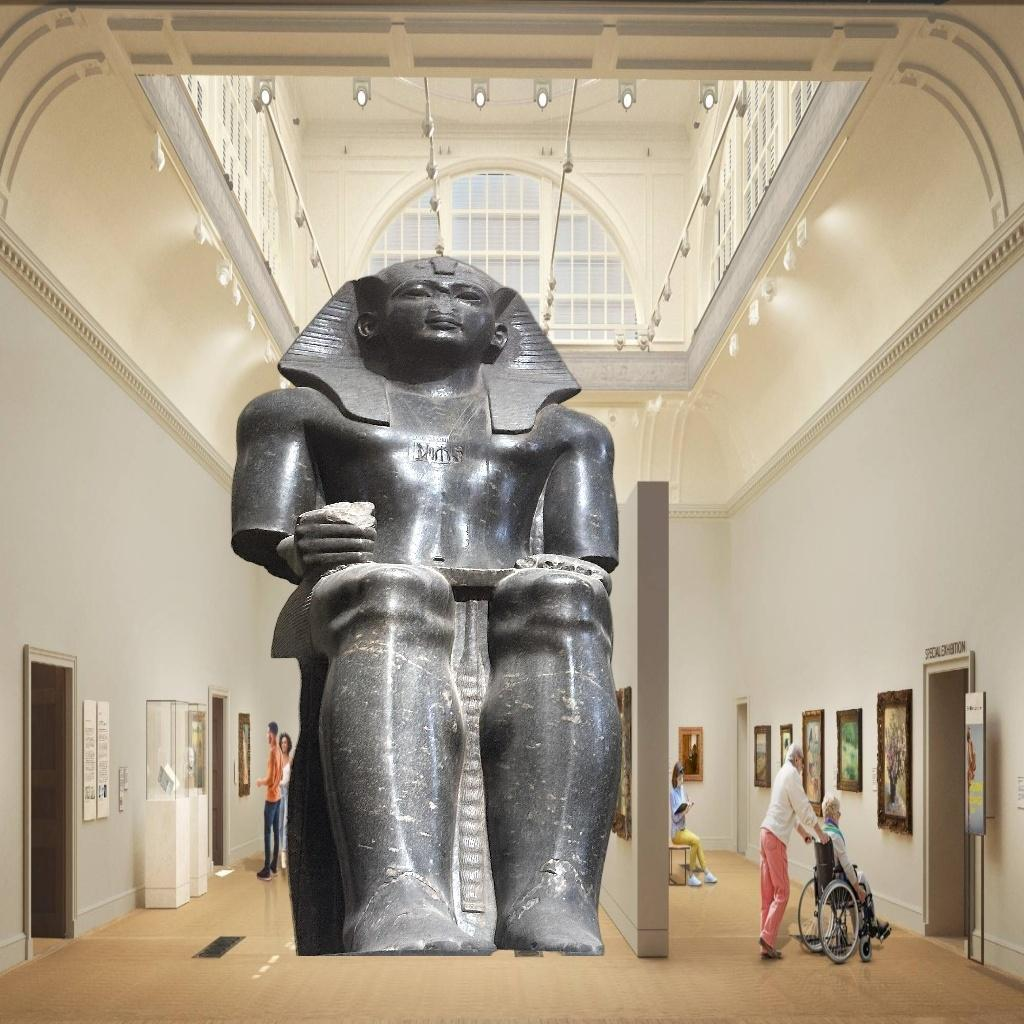Seated Statue of Ramesses II: (226, 252, 634, 956)
